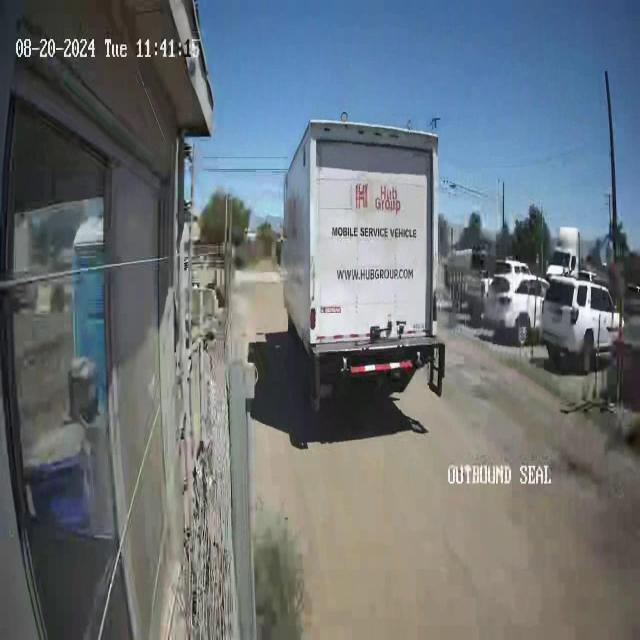TRUCK_OUT: (280, 116, 446, 412)
